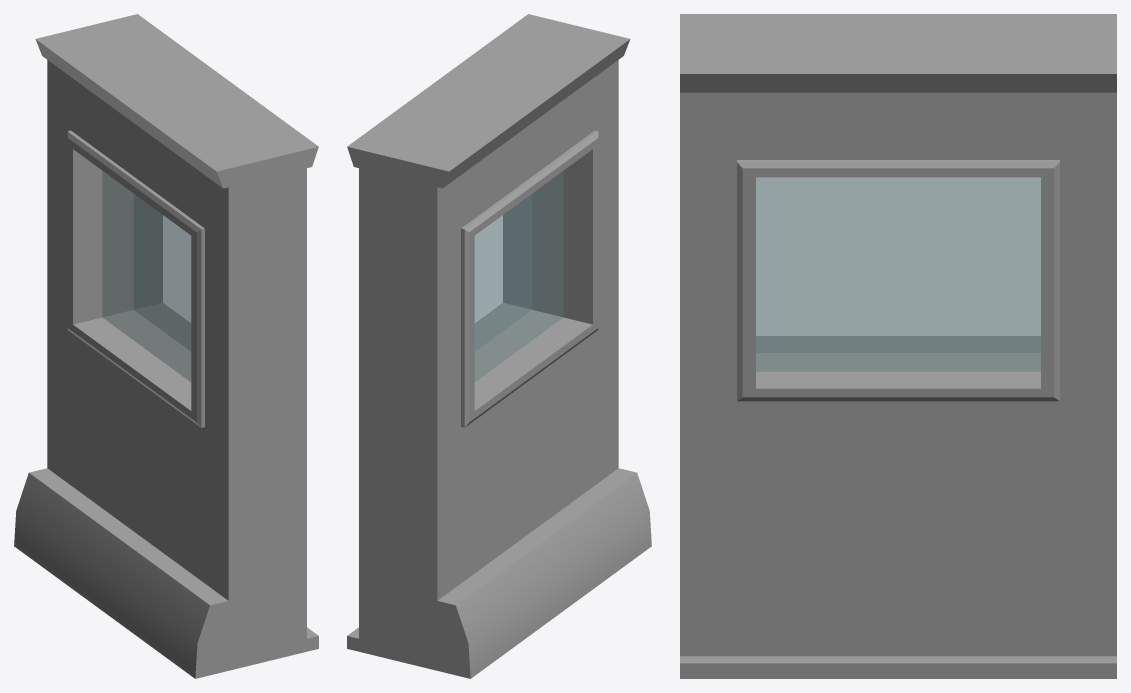
The model's file is SM_Wall_Window.fbx.
3 renders of one model, left to right at view 1: azimuth 30°, elevation 25°; view 2: azimuth 150°, elevation 25°; view 3: azimuth 270°, elevation 25°, orthographic. The views are drawn at different scales.
Visible parts, largest first — view 1: SM_Wall_Window, SM_Window; view 2: SM_Wall_Window, SM_Window; view 3: SM_Wall_Window, SM_Window.
Part boxes in pixels (left/top/right/bottom): SM_Wall_Window: left=14, top=14, right=318, bottom=678; SM_Window: left=102, top=171, right=191, bottom=381; SM_Wall_Window: left=347, top=14, right=651, bottom=678; SM_Window: left=474, top=171, right=563, bottom=381; SM_Wall_Window: left=680, top=14, right=1116, bottom=678; SM_Window: left=756, top=177, right=1040, bottom=371.
Bounding box in the file's own units: 78.71 × 306 × 200.
